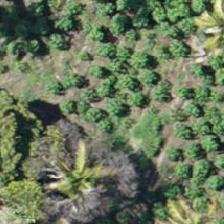coconut_tree: (59, 33, 149, 123), (45, 143, 135, 223), (128, 170, 218, 223), (172, 0, 223, 83)
